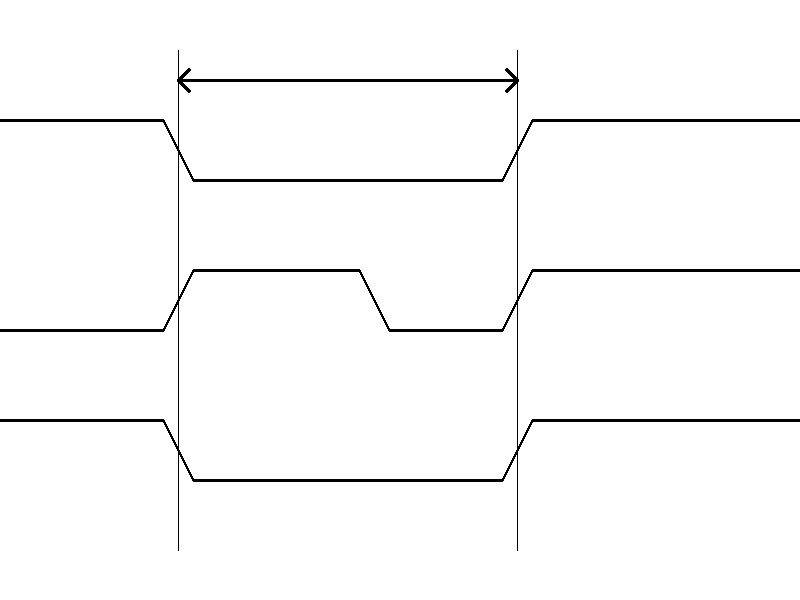double_arrow: (178, 65, 517, 95)
